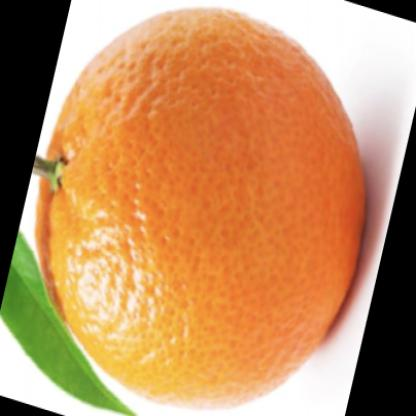orange: (23, 6, 368, 390)
